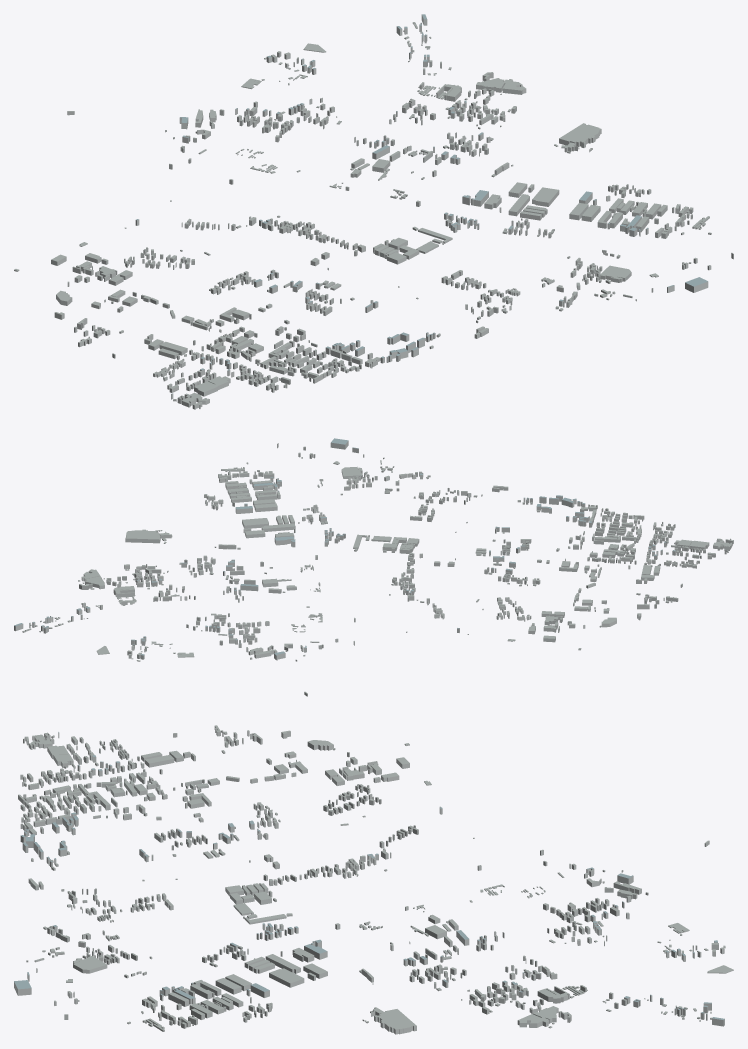
The model's file is far.glb.
The picture shows the model from 3 angles, top to bottom: view 1: azimuth 30°, elevation 25°; view 2: azimuth 150°, elevation 25°; view 3: azimuth 270°, elevation 25°; orthographic projection. The views are drawn at different scales.
Size of the model in its own units: 2144 by 25.1 by 2138.
